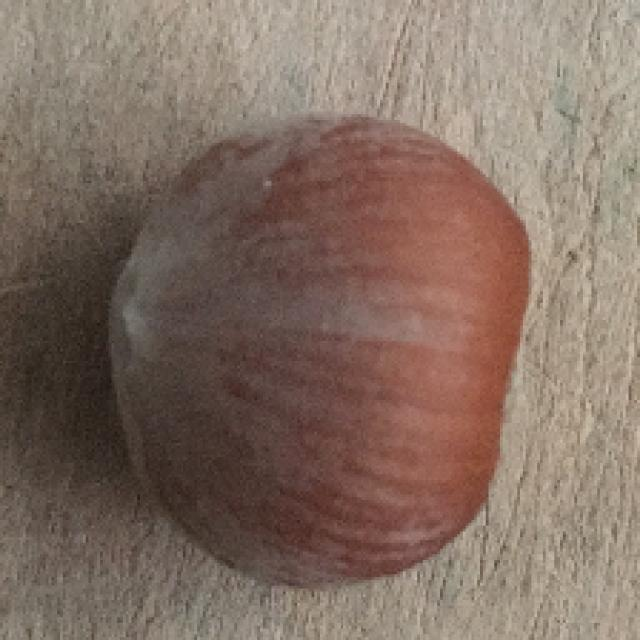qualityHazelnut: (101, 115, 542, 571)
